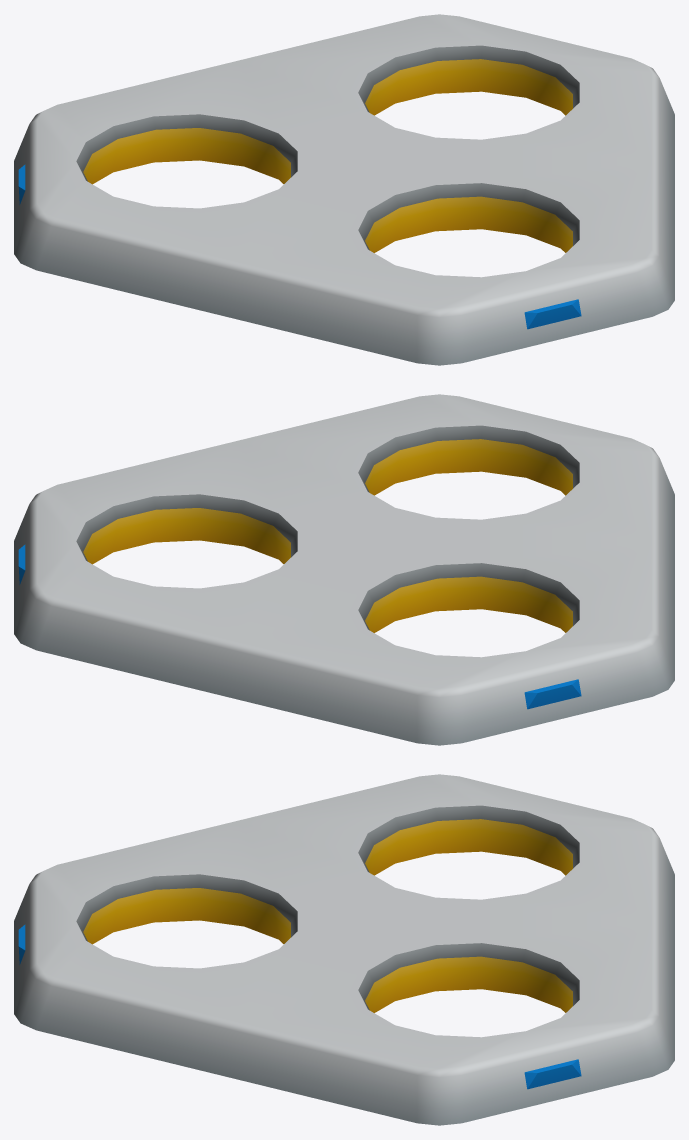
File: Hatch_007.fbx
3 renders of one model, top to bottom at view 1: azimuth 30°, elevation 25°; view 2: azimuth 150°, elevation 25°; view 3: azimuth 270°, elevation 25°, orthographic.
Parts seen in each view (by area): view 1: Hatch_007; view 2: Hatch_007; view 3: Hatch_007.
Boxes of the visible parts, bbox=[...] form: Hatch_007: bbox=[14, 14, 674, 365]; Hatch_007: bbox=[14, 394, 674, 745]; Hatch_007: bbox=[14, 774, 674, 1125].
Size of the model in its own units: 176 by 156 by 12.
